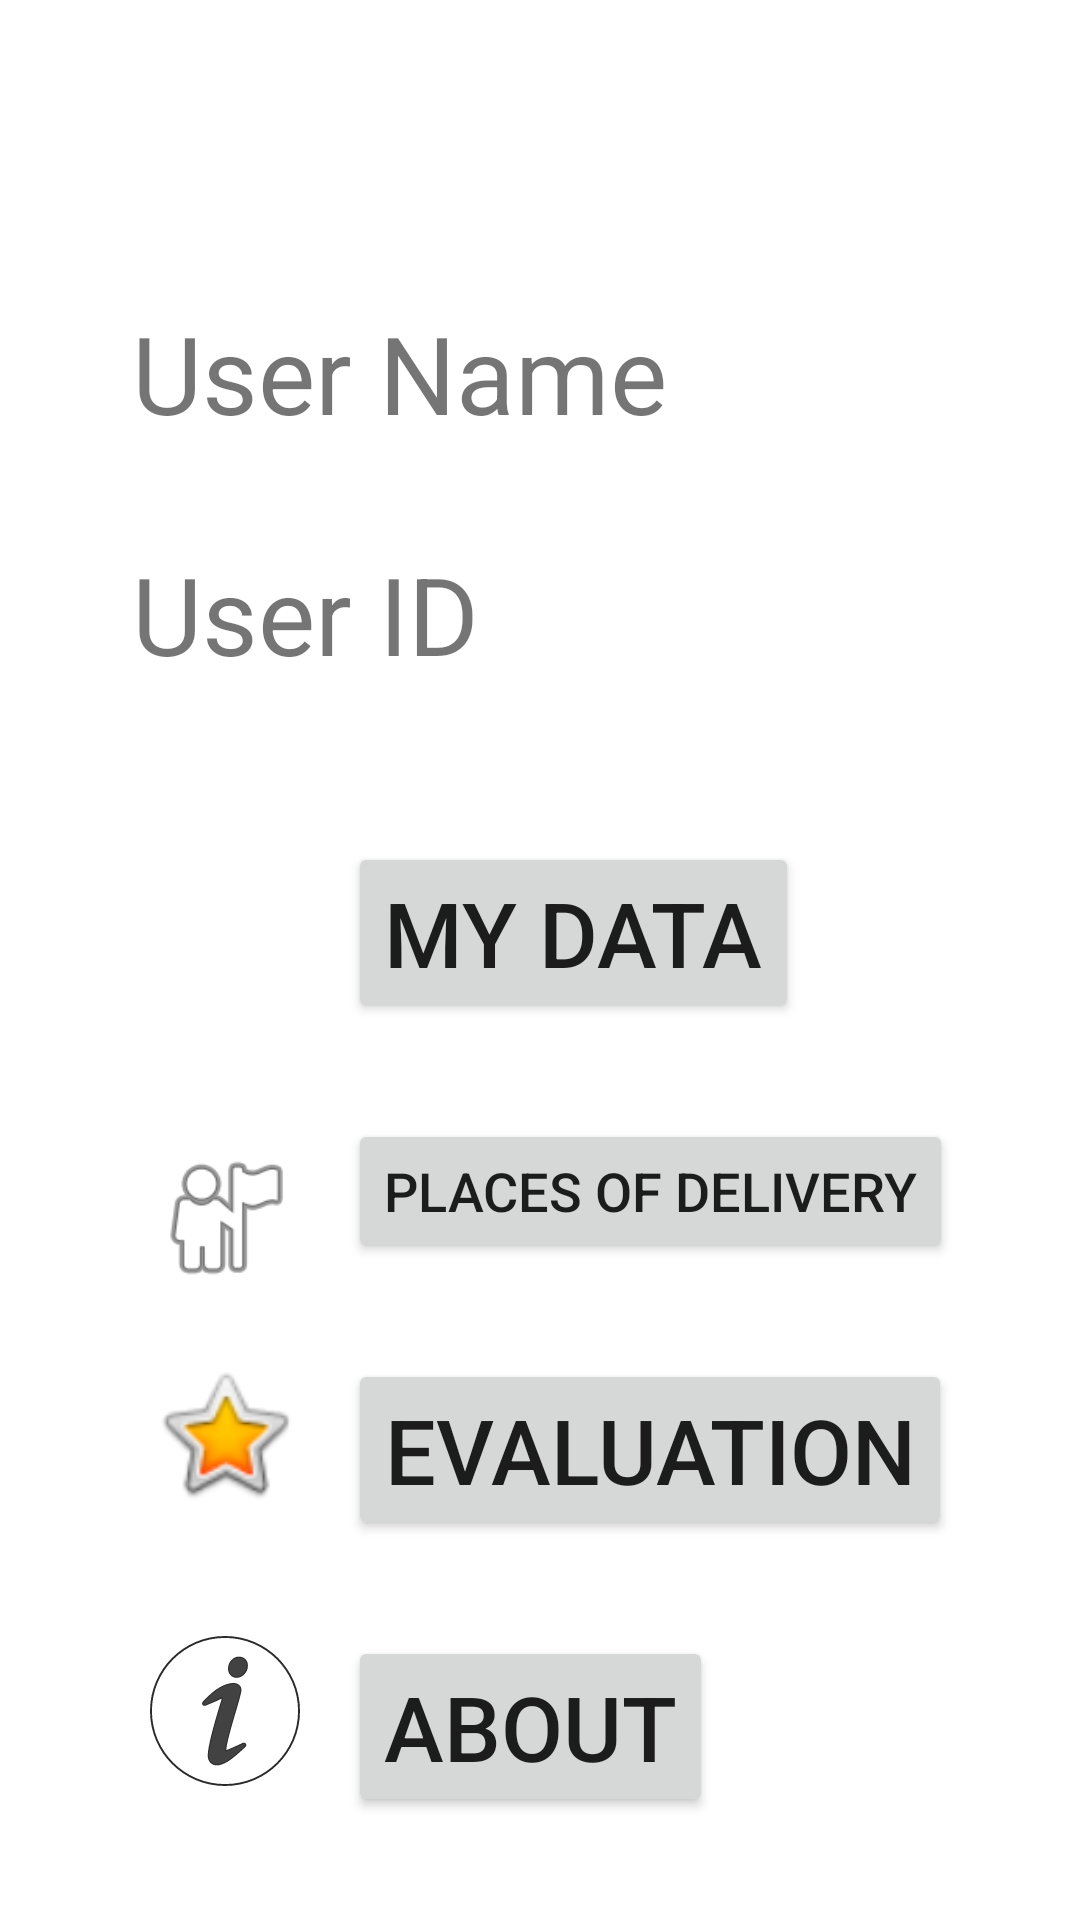

Icons on this 1080px x 1920px Android screen, each with the point to tap as [x,y]:
myplaces: [226,1218]
star on: [226,1435]
